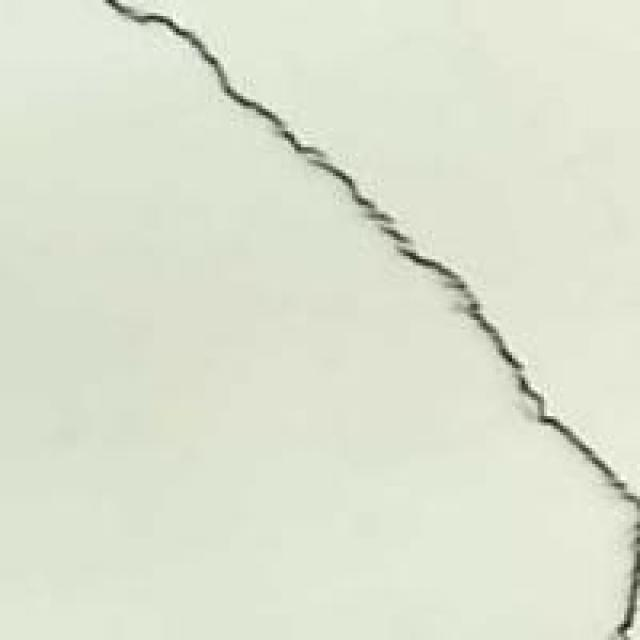crack: (112, 0, 637, 541)
